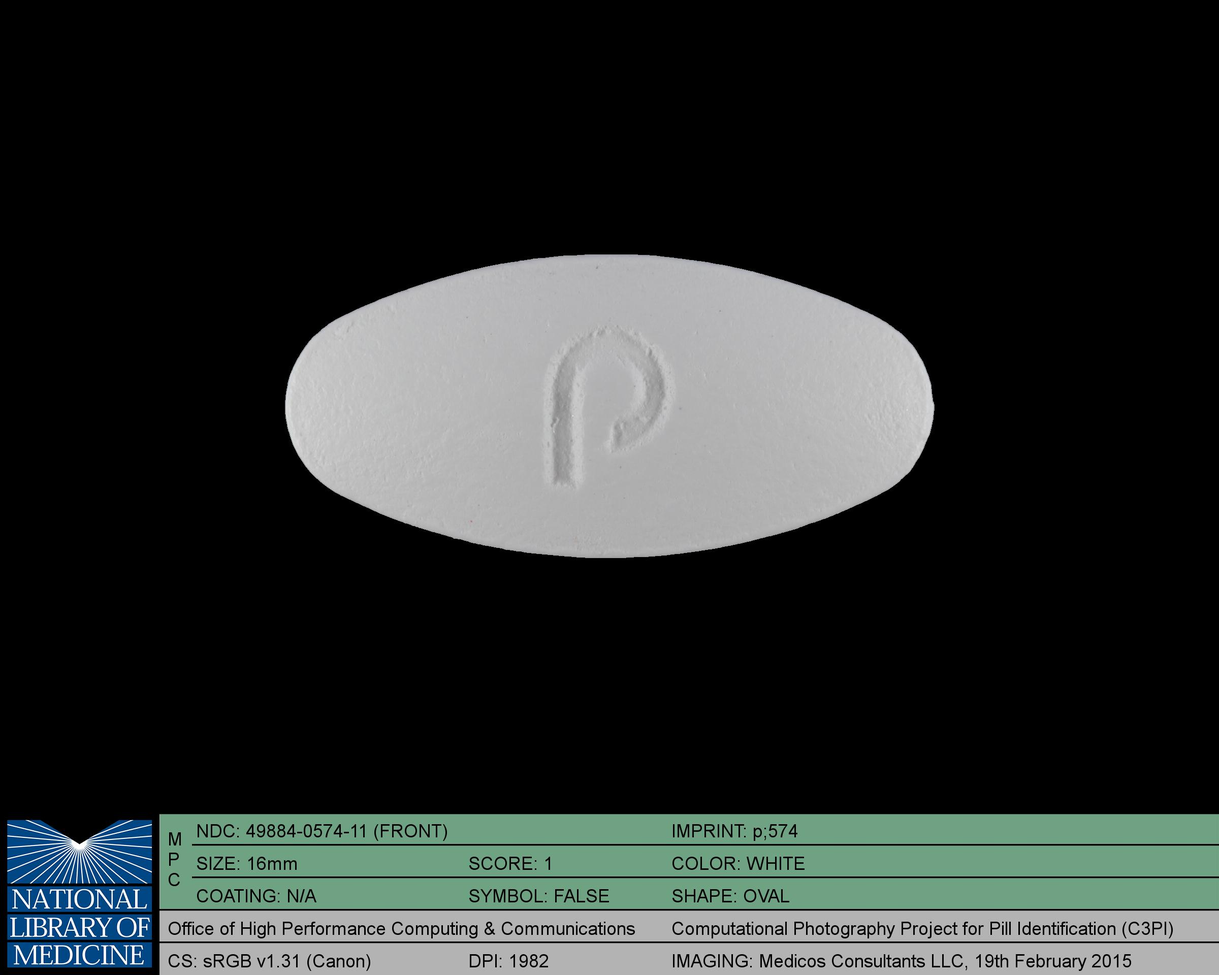Pill: (271, 242, 946, 572)
